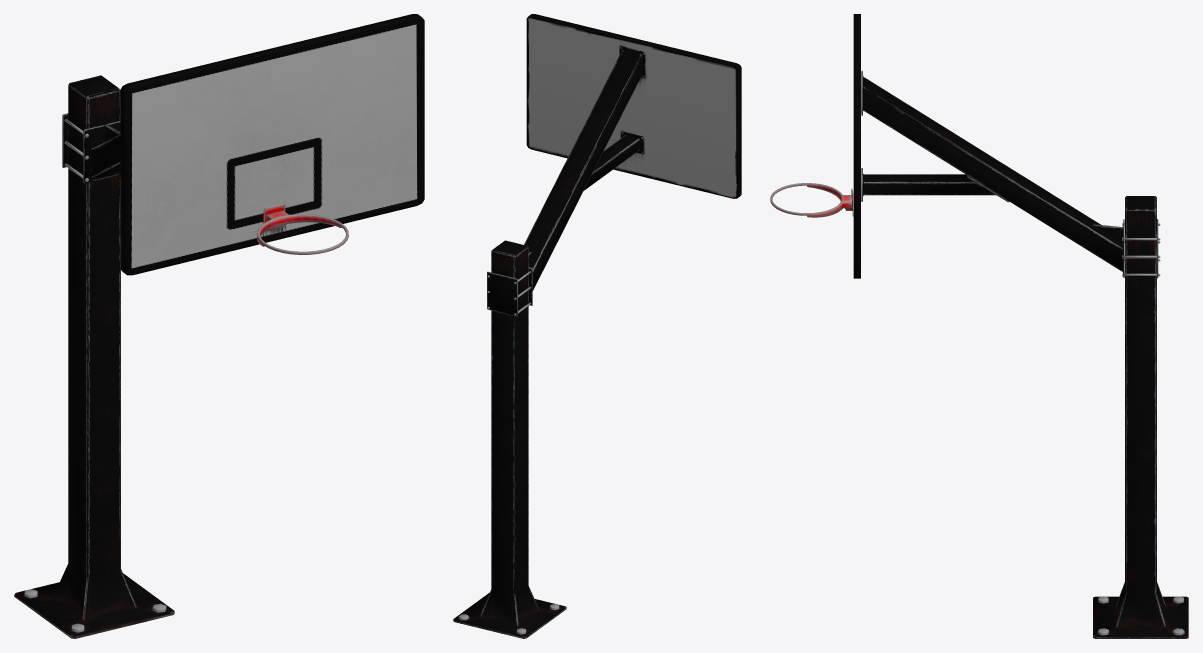
File: cesta.glb
The picture shows the model from 3 angles, left to right: view 1: azimuth 30°, elevation 25°; view 2: azimuth 150°, elevation 25°; view 3: azimuth 270°, elevation 25°; orthographic projection. The views are drawn at different scales.
Visible parts, largest first — view 1: base; view 2: base; view 3: base.
Boxes of the visible parts, x1=… form: base: x1=14, y1=14, x2=424, y2=638; base: x1=453, y1=14, x2=741, y2=638; base: x1=770, y1=14, x2=1188, y2=638.
Size of the model in its own units: 2.75 by 6 by 4.15.
Materials: 1 (1 with a texture image).
